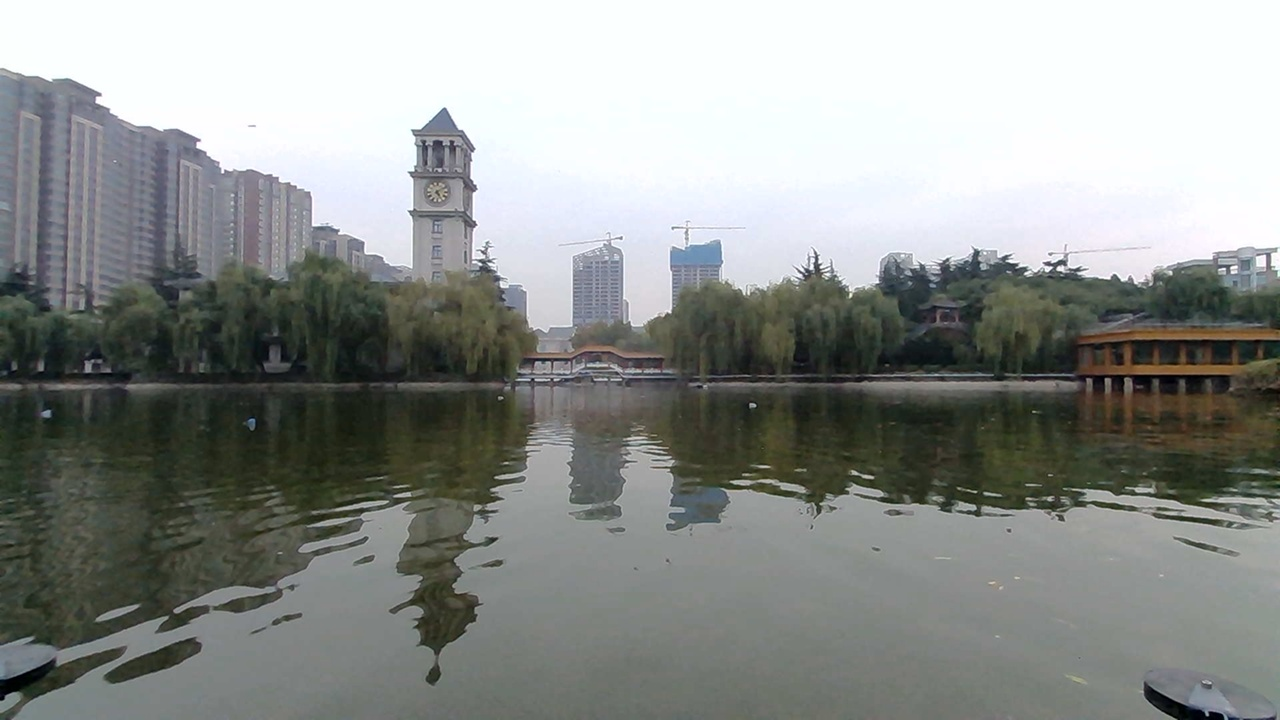bottle: (722, 391, 765, 415), (232, 412, 266, 434), (39, 396, 60, 424)
